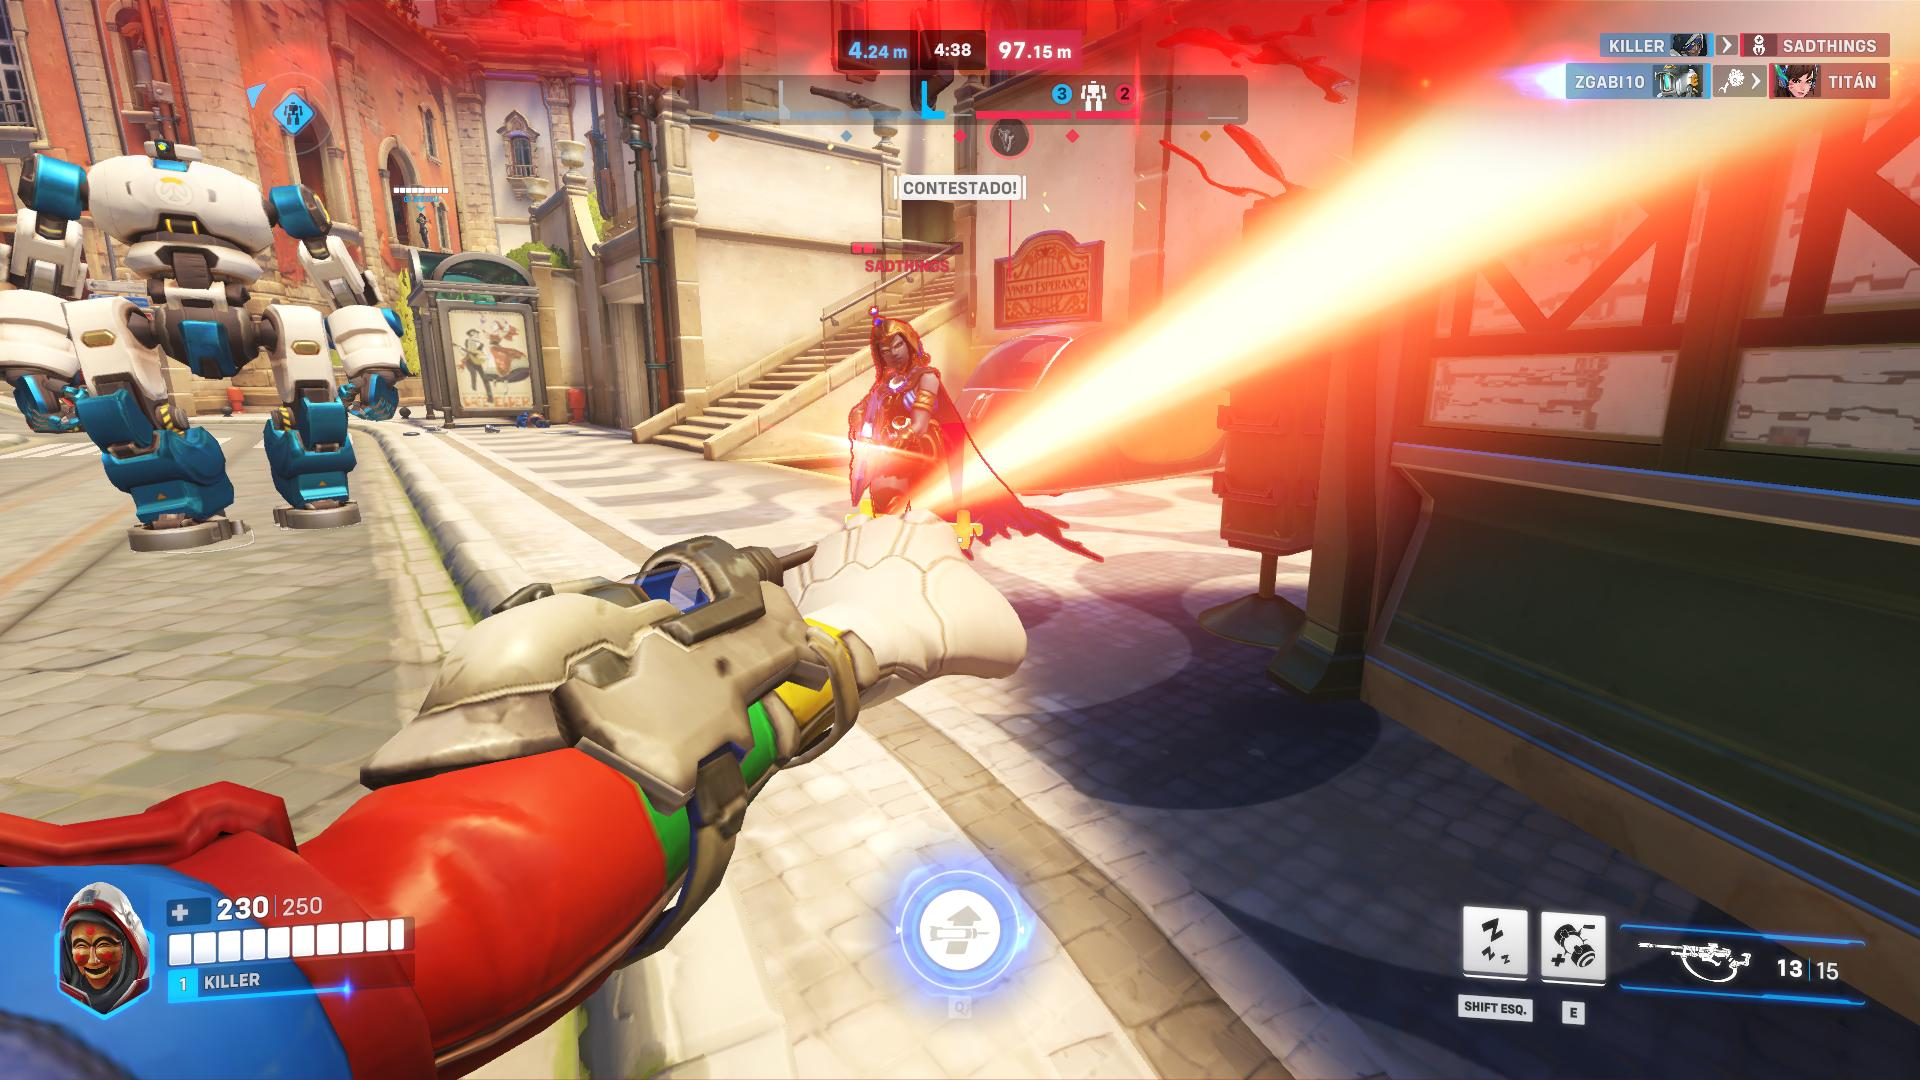enemy: (848, 307, 940, 513)
